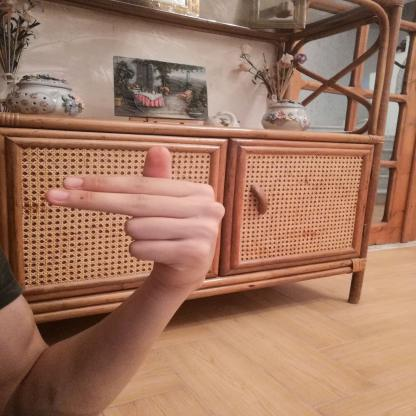GHAYN: (29, 137, 240, 298)
